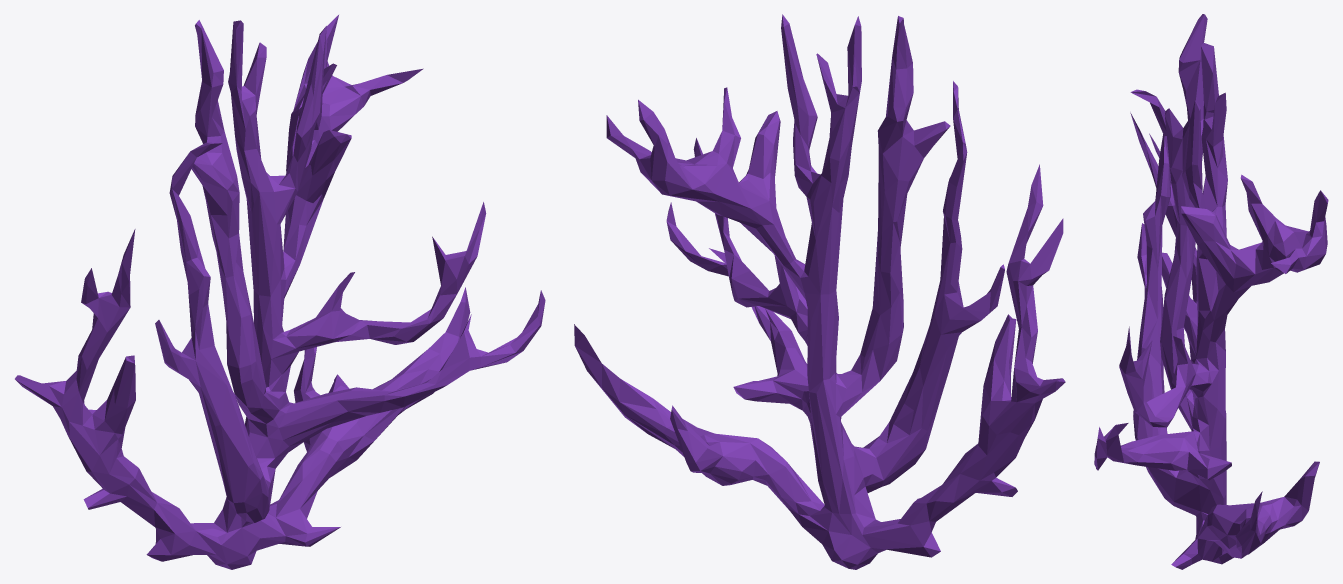
The model's file is Plant3.fbx.
3 renders of one model, left to right at view 1: azimuth 30°, elevation 25°; view 2: azimuth 150°, elevation 25°; view 3: azimuth 270°, elevation 25°, orthographic. The views are drawn at different scales.
Parts seen in each view (by area): view 1: pCube2; view 2: pCube2; view 3: pCube2.
Boxes of the visible parts, left/top/right/bottom form: pCube2: left=15, top=15, right=545, bottom=569; pCube2: left=574, top=14, right=1065, bottom=569; pCube2: left=1094, top=14, right=1328, bottom=569.
Bounding box in the file's own units: 3.77 × 4.25 × 1.71.
